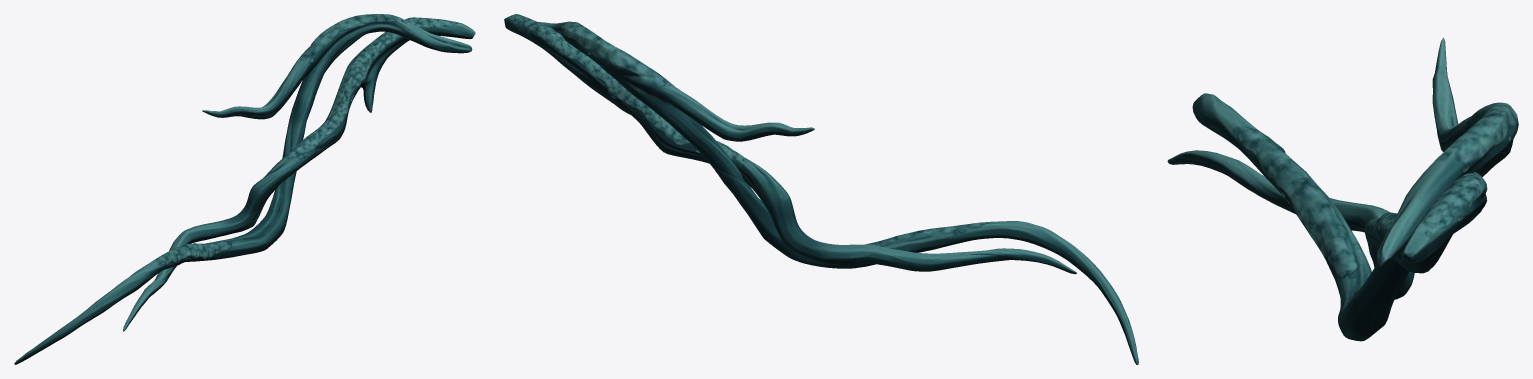
The model's file is sky_root_02c_soma_v35.glb.
3 views of the same model, side by side, from view 1: azimuth 30°, elevation 25°; view 2: azimuth 150°, elevation 25°; view 3: azimuth 270°, elevation 25° (orthographic). The views are drawn at different scales.
Visible parts, largest first — view 1: root_02c; view 2: root_02c; view 3: root_02c.
Boxes of the visible parts, <box> form: root_02c: <box>14,14,475,364</box>; root_02c: <box>504,14,1138,364</box>; root_02c: <box>1167,37,1518,341</box>.
Size of the model in its own units: 13.3 by 5.52 by 4.11.
1 material, 1 textured.
